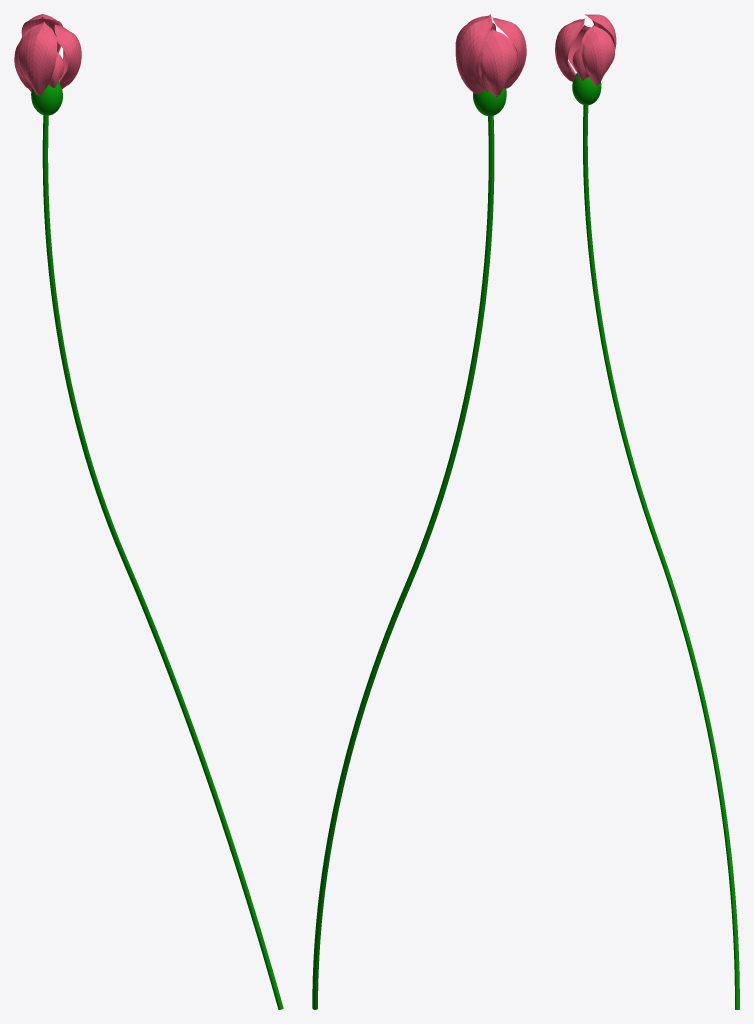
The model's file is Lotus008.fbx.
3 renders of one model, left to right at view 1: azimuth 30°, elevation 25°; view 2: azimuth 150°, elevation 25°; view 3: azimuth 330°, elevation 25°, orthographic. The views are drawn at different scales.
Visible parts, largest first — view 1: pCylinder5, nurbsToPoly11, nurbsToPoly24, pSphere4; view 2: pCylinder5, nurbsToPoly10, nurbsToPoly12, nurbsToPoly11, pSphere4; view 3: pCylinder5, nurbsToPoly24, nurbsToPoly11, pSphere4.
Part boxes in pixels (x1,y1,x2,y2): pCylinder5: (42,115,283,1009); nurbsToPoly11: (17,21,56,95); nurbsToPoly24: (54,24,81,88); pSphere4: (31,81,62,115); pCylinder5: (312,115,494,1009); nurbsToPoly10: (455,14,492,94); nurbsToPoly12: (479,29,517,98); nurbsToPoly11: (492,17,526,88); pSphere4: (473,86,506,116); pCylinder5: (583,105,739,1009); nurbsToPoly24: (581,25,615,86); nurbsToPoly11: (555,18,584,81); pSphere4: (572,73,601,105).
Size of the model in its own units: 49.22 by 207 by 19.93.
